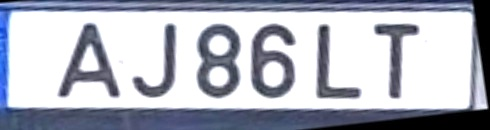6: (250, 20, 300, 105)
8: (194, 19, 245, 102)
A: (53, 21, 127, 101)
J: (128, 21, 180, 101)
L: (315, 21, 367, 101)
T: (371, 20, 423, 102)
